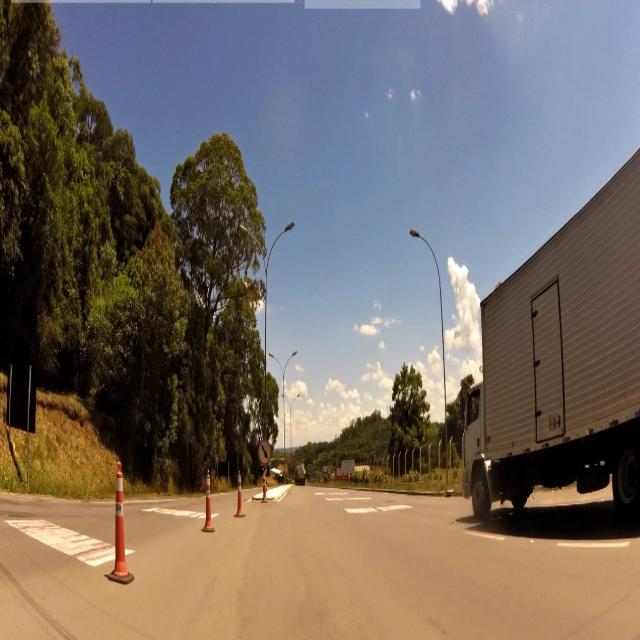R-24b: (258, 437, 272, 465)
